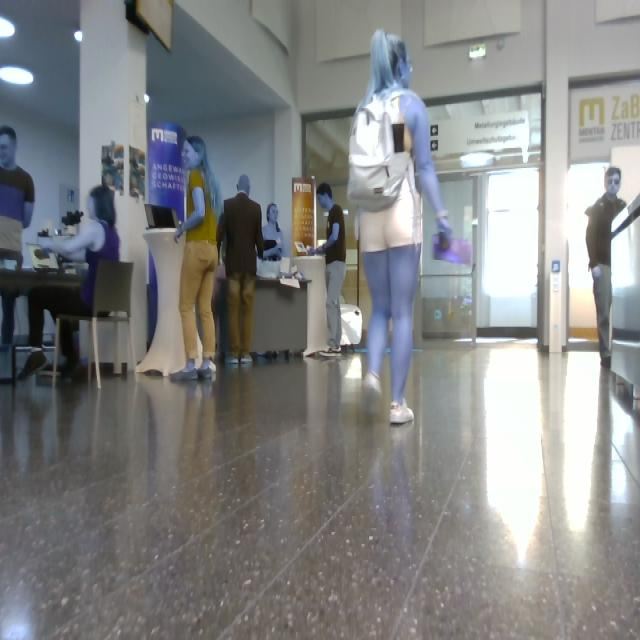backpack: (349, 93, 411, 212)
banner: (149, 124, 187, 221), (294, 178, 316, 257)
chair: (54, 261, 137, 384)
desk: (252, 278, 309, 362)
door: (478, 169, 539, 328)
light bulb: (1, 66, 33, 82), (460, 153, 494, 168), (1, 17, 15, 38), (470, 45, 486, 60), (74, 30, 83, 42)
person: (349, 30, 453, 425), (30, 186, 119, 346), (172, 137, 223, 380), (41, 185, 120, 318), (218, 176, 265, 365), (586, 168, 626, 368), (318, 184, 346, 353), (1, 126, 35, 265), (60, 320, 81, 378), (264, 204, 284, 261), (1, 292, 18, 345), (62, 333, 79, 374)
pillar: (81, 1, 148, 360)
table: (137, 229, 186, 376), (294, 256, 327, 356)
tiled floor: (1, 344, 640, 640)
